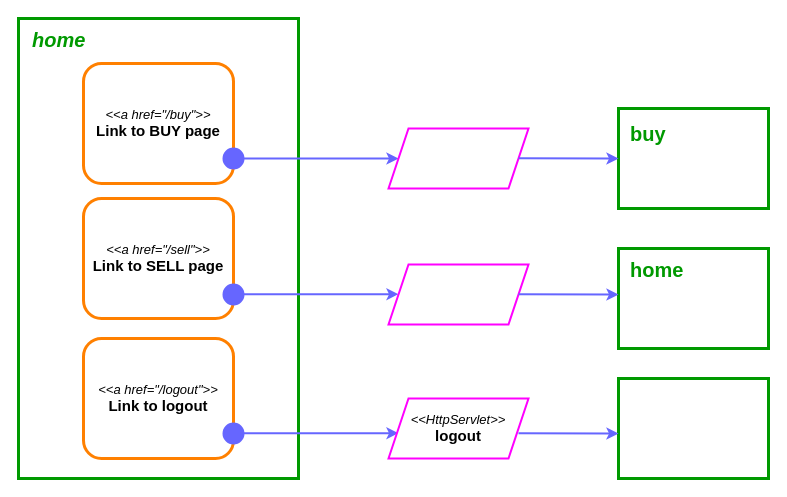
Some shapes in this 787 by 497 pixel diagram are drawn without their labels. Here are the shapes that lost their labels. From the top down, the centre of each, then its label:
point 458,158: <<HttpServlet>> buy
point 458,294: <<HttpServlet>> sell
point 693,428: index.html
